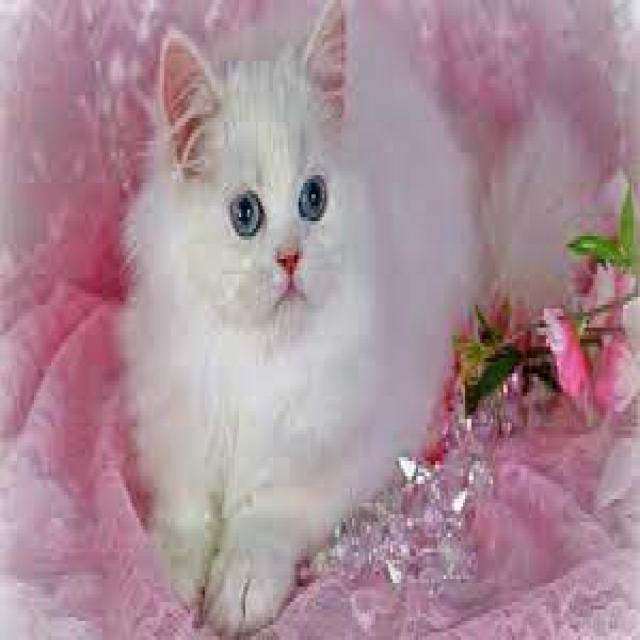Cat: (116, 0, 480, 638)
